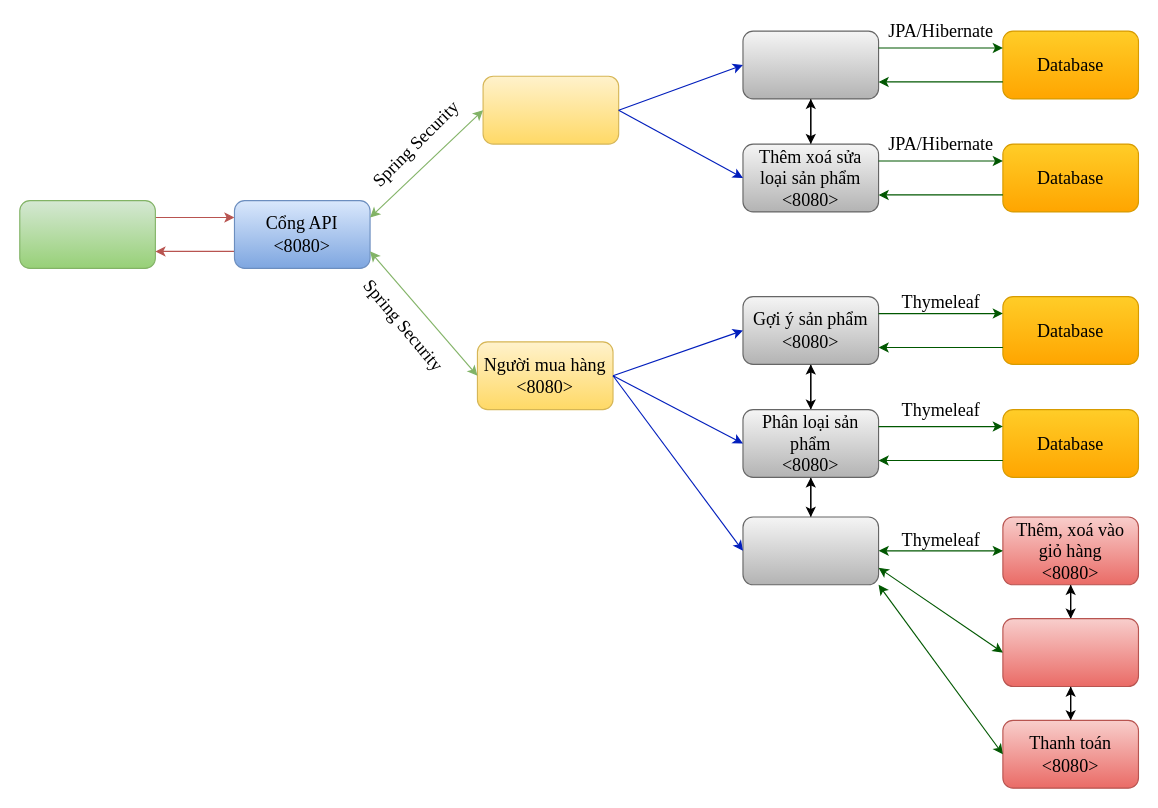
Some shapes in this 1158 by 808 pixel diagram are drawn without their labels. Here are the shapes that lost their labels. From the top down, the centre of each, then its label:
the point at 810,64: Thêm xoá sửa sản phẩm <8080>
the point at 550,109: Quản trị viên (nhân viên) <8080>
the point at 87,233: Người sử dụng
the point at 810,550: Giỏ hàng <8080>
the point at 1070,652: Tính toán giỏ hàng <8080>
